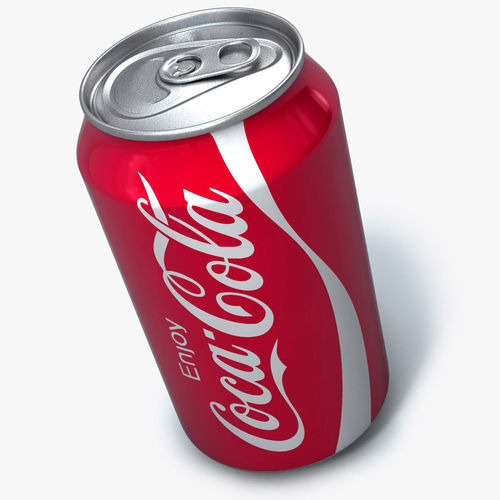can: (77, 4, 398, 500)
